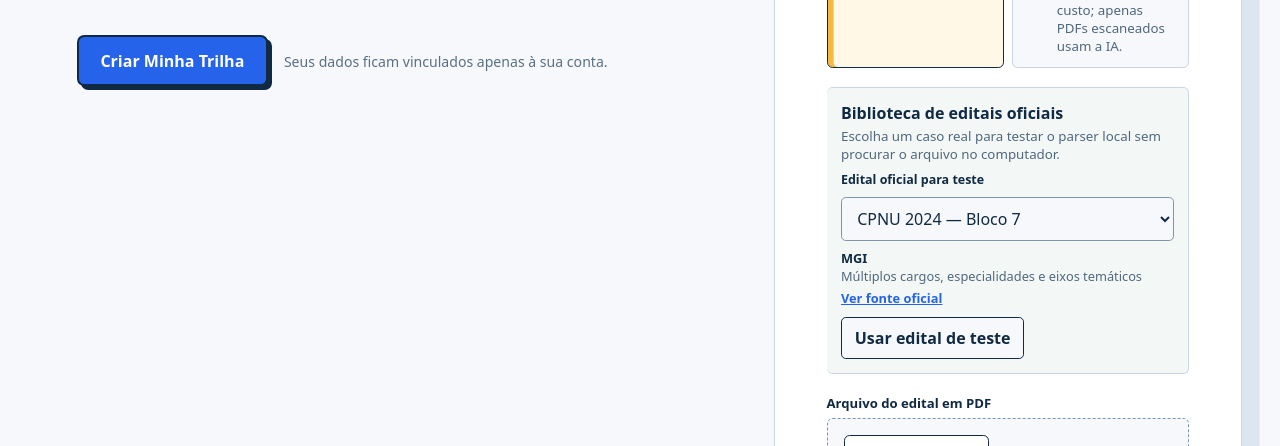
edital upload journey › loads a representative official edital from the local test catalog
The width and height of the screenshot is (1280, 446).
(page scrolled)
Expected: the text "Múltiplos cargos, especialidades e eixos temáticos" is shown, [841,268,1174,286]
Step 1. Select "CPNU 2024 — Bloco 7" in the dropdown labelled "Edital oficial para teste" → (1008,219), box [841,197,1174,241]
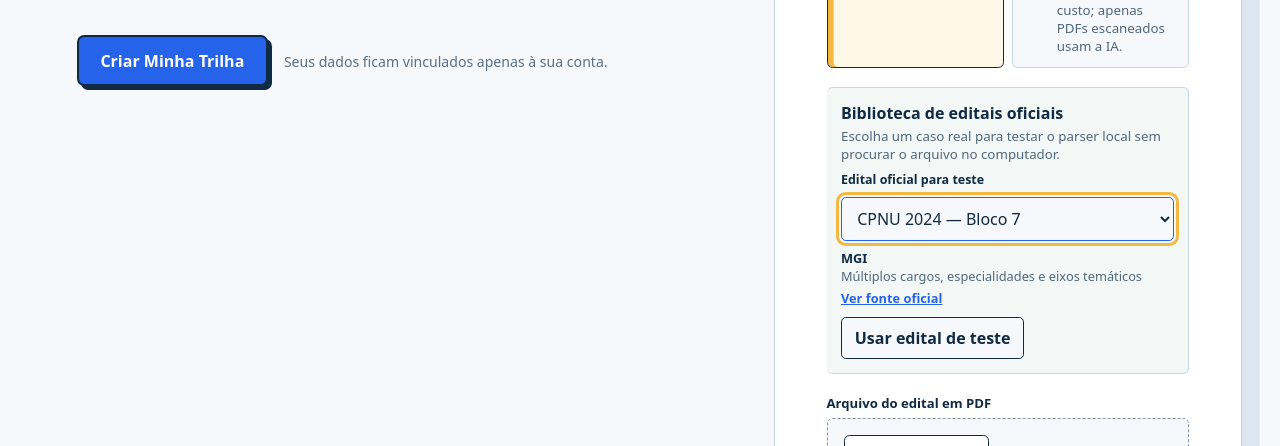
Step 2. Click the button "Usar edital de teste" → (933,338), box [841,317,1024,359]
(page scrolled)
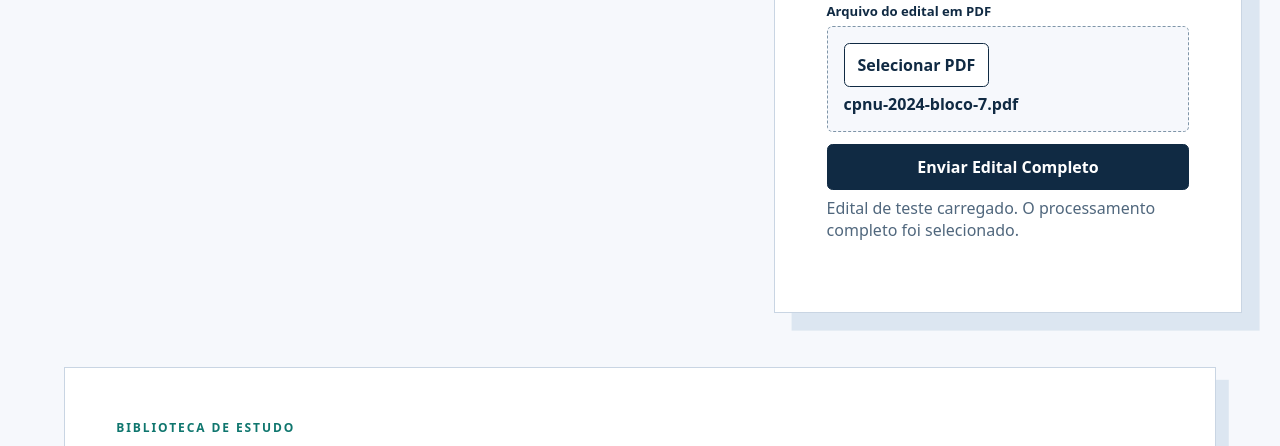
Result: the text "cpnu-2024-bloco-7.pdf" is shown at [844,92,1018,114]
Result: the text "Edital de teste carregado. O processamento completo foi selecionado." is shown at [827,197,1189,241]
